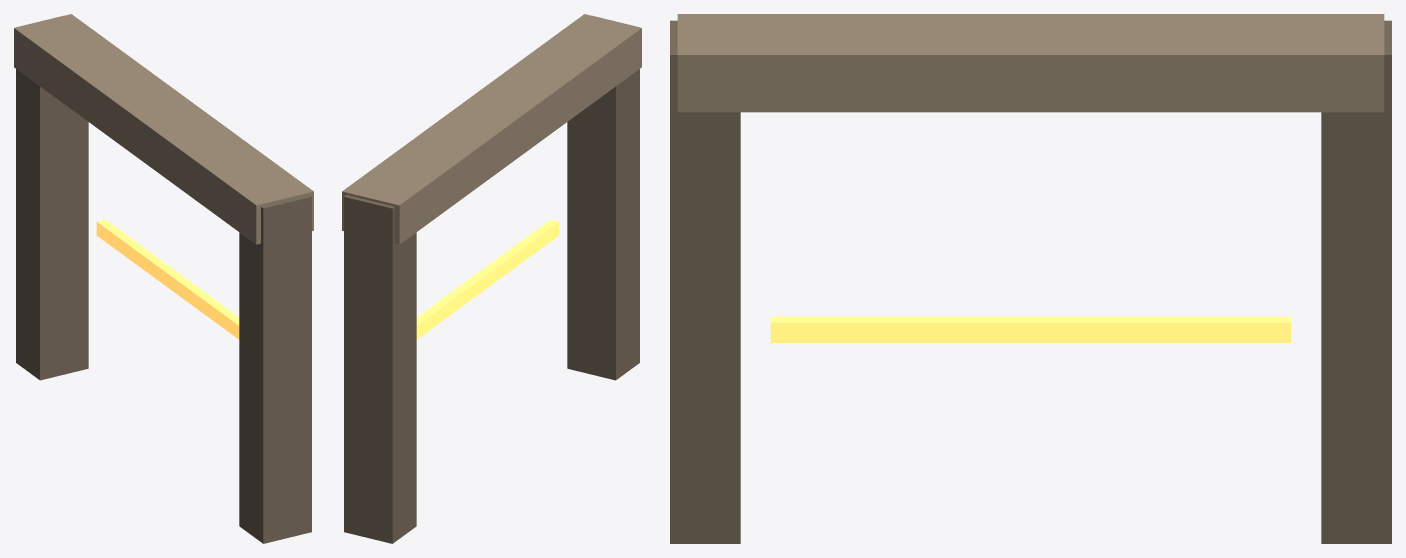
File: refinery-bulkhead-lod2.glb
3 renders of one model, left to right at view 1: azimuth 30°, elevation 25°; view 2: azimuth 150°, elevation 25°; view 3: azimuth 270°, elevation 25°, orthographic. The views are drawn at different scales.
Parts seen in each view (by area): view 1: refinery-bulkhead-right, refinery-bulkhead-cap, refinery-bulkhead-left, refinery-bulkhead-hazard; view 2: refinery-bulkhead-left, refinery-bulkhead-cap, refinery-bulkhead-right, refinery-bulkhead-hazard; view 3: refinery-bulkhead-cap, refinery-bulkhead-left, refinery-bulkhead-right, refinery-bulkhead-hazard.
Boxes of the visible parts, x1,y1,x2,y2 form: refinery-bulkhead-right: (239, 195, 311, 543); refinery-bulkhead-cap: (14, 14, 313, 244); refinery-bulkhead-left: (16, 15, 88, 380); refinery-bulkhead-hazard: (96, 219, 239, 339); refinery-bulkhead-left: (344, 195, 416, 543); refinery-bulkhead-cap: (342, 14, 641, 244); refinery-bulkhead-right: (567, 15, 639, 380); refinery-bulkhead-hazard: (416, 219, 559, 339); refinery-bulkhead-cap: (677, 14, 1384, 112); refinery-bulkhead-left: (1321, 20, 1391, 543); refinery-bulkhead-right: (670, 20, 740, 543); refinery-bulkhead-hazard: (770, 316, 1291, 342).
Bounding box in the file's own units: 0.54 × 2.92 × 3.88.
